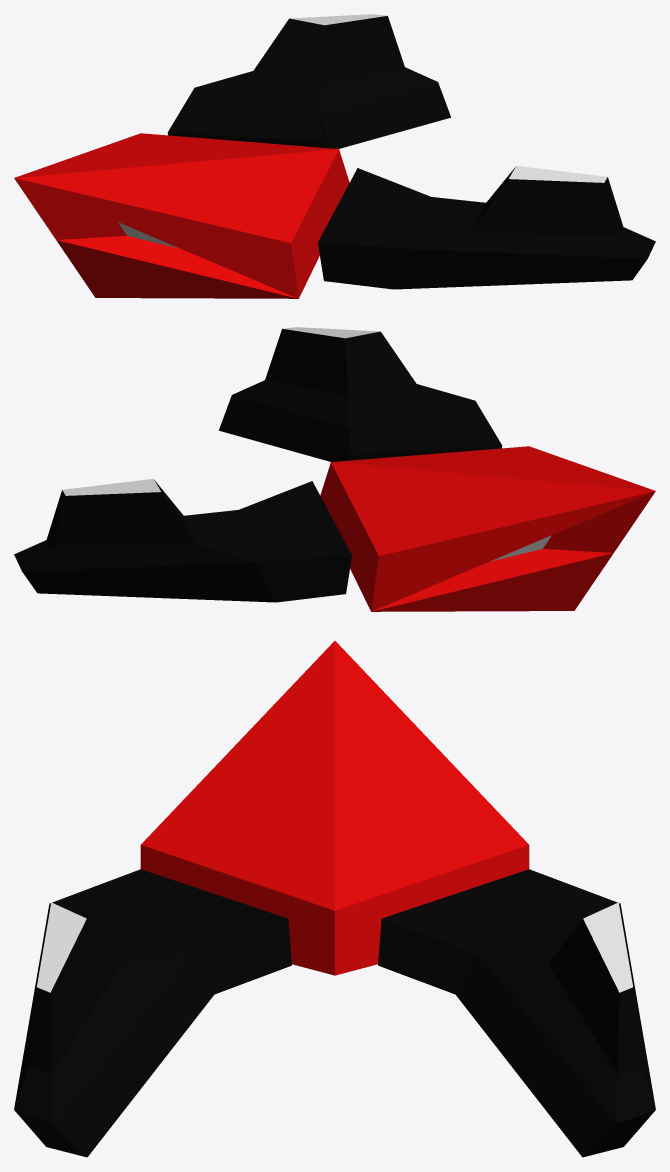
File: Gallant3.fbx
3 renders of one model, top to bottom at view 1: azimuth 30°, elevation 25°; view 2: azimuth 150°, elevation 25°; view 3: azimuth 270°, elevation 25°, orthographic. The views are drawn at different scales.
Visible parts, largest first — view 1: Gallant3; view 2: Gallant3; view 3: Gallant3.
Part boxes in pixels (box(x1,y1,x2,y2)): Gallant3: box(14, 14, 655, 298); Gallant3: box(14, 327, 655, 611); Gallant3: box(14, 641, 655, 1157).
Bounding box in the file's own units: 140 × 36.29 × 113.
